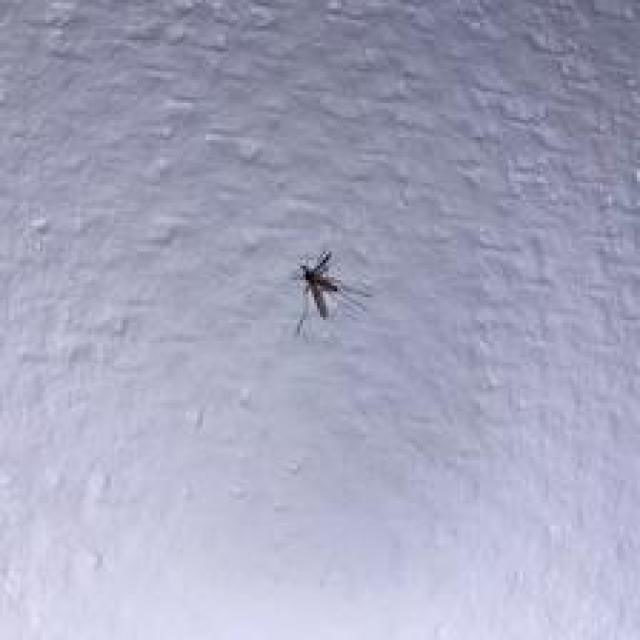Culex: (288, 249, 372, 337)
